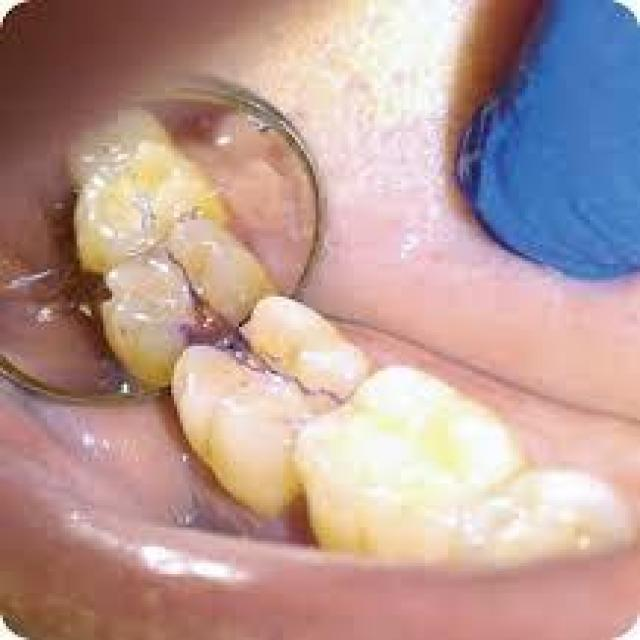cavity: (215, 332, 342, 401)
crack: (174, 297, 378, 516), (292, 371, 522, 560)
